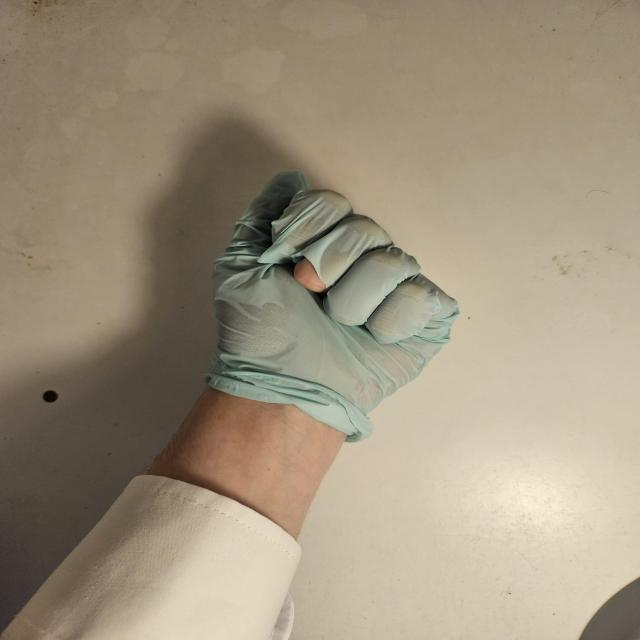gloves_damaged: (205, 165, 462, 441)
